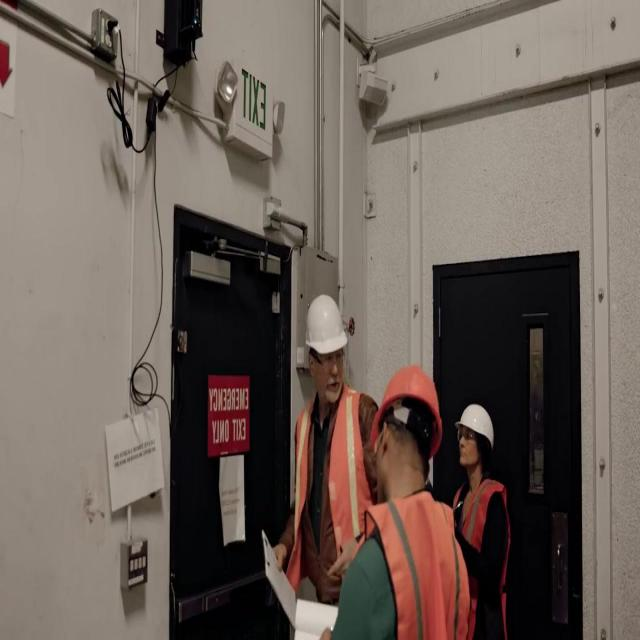Reflective-Jacket: (276, 381, 382, 601), (346, 488, 472, 638), (448, 470, 518, 640)
Safety-Helmet: (365, 355, 449, 473), (296, 282, 354, 370), (452, 391, 502, 458)
